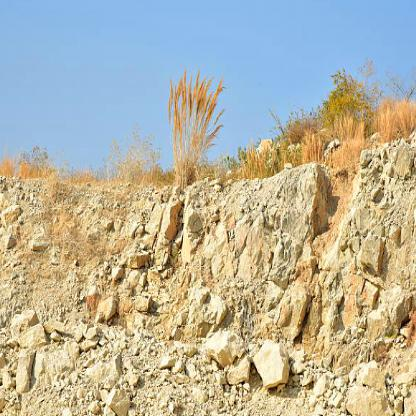Sedimentary_Limestone: (248, 339, 296, 394), (159, 198, 185, 253), (342, 374, 376, 415), (19, 323, 51, 354)
